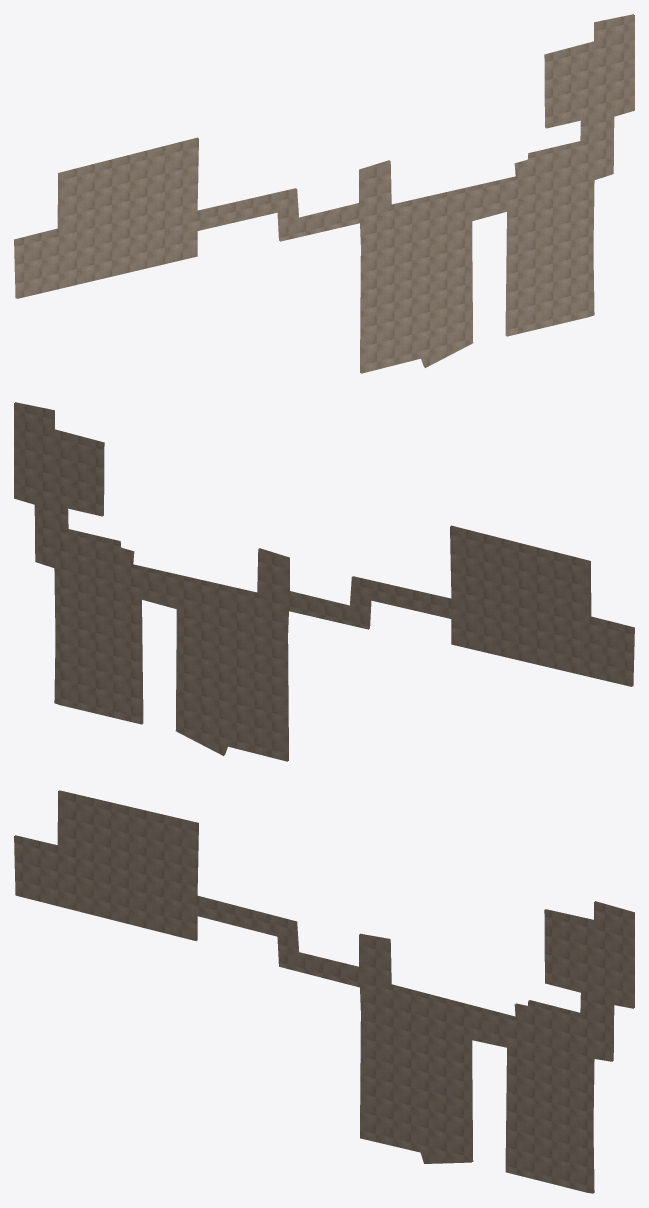
Rendered from floor_45.obj.
3 renders of one model, top to bottom at view 1: azimuth 30°, elevation 25°; view 2: azimuth 150°, elevation 25°; view 3: azimuth 330°, elevation 25°, orthographic.
Parts seen in each view (by area): view 1: floor_45; view 2: floor_45; view 3: floor_45.
Boxes of the visible parts, bbox=[...] form: floor_45: bbox=[14, 14, 634, 373]; floor_45: bbox=[14, 402, 634, 761]; floor_45: bbox=[14, 790, 634, 1193].
Size of the model in its own units: 35.15 by 16.46 by 0.1.
Materials: 1 (1 with a texture image).
